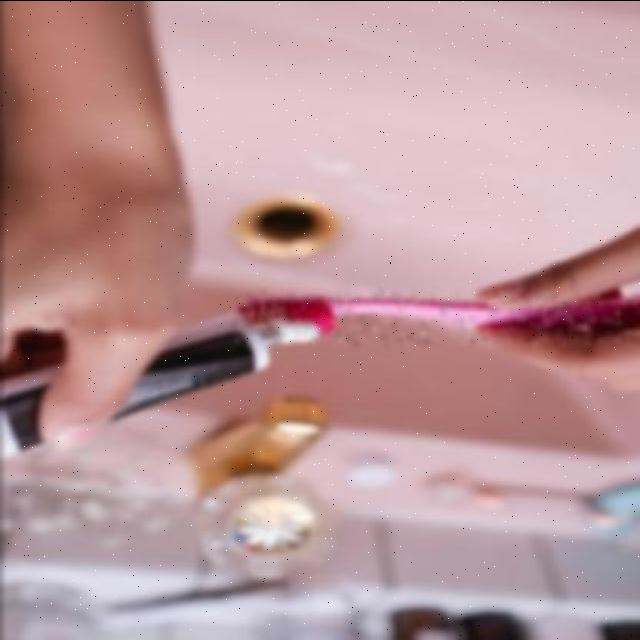toothbrush: (230, 292, 640, 344)
